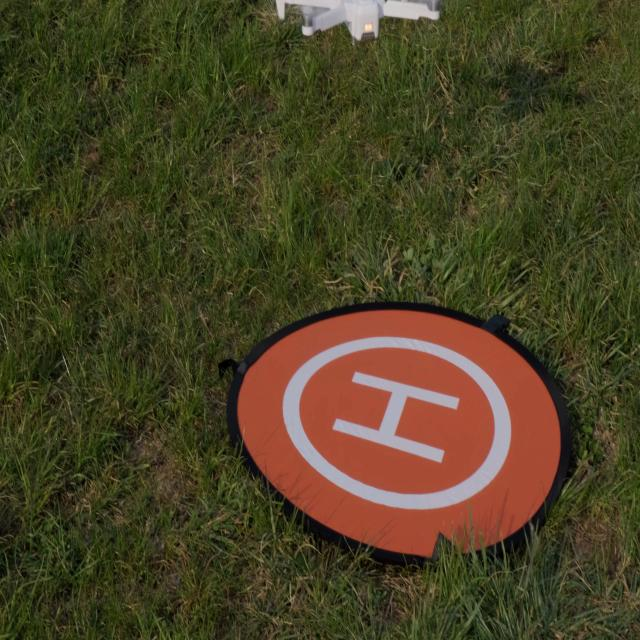drone: (275, 0, 440, 44)
